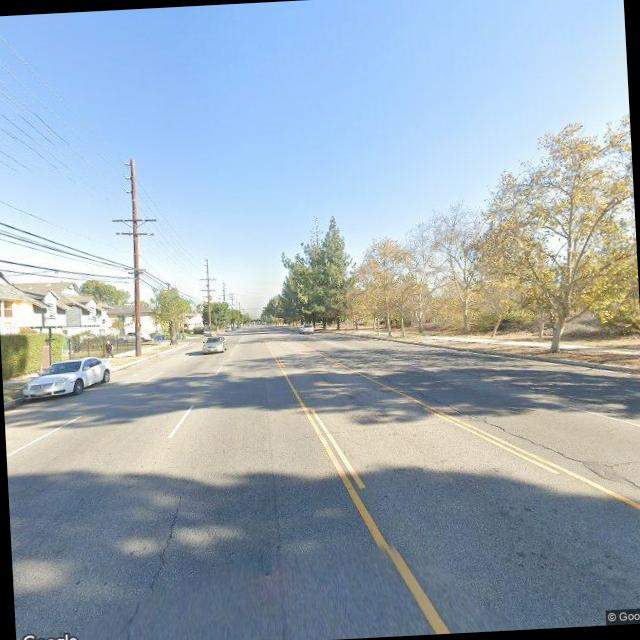pothole: (394, 368, 585, 473), (140, 462, 192, 604)
